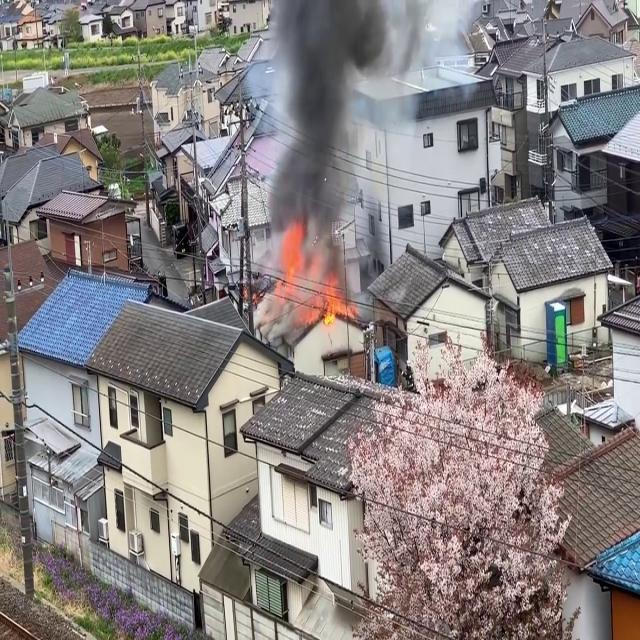Fire: (264, 225, 356, 330)
Smoke: (259, 0, 393, 287)
